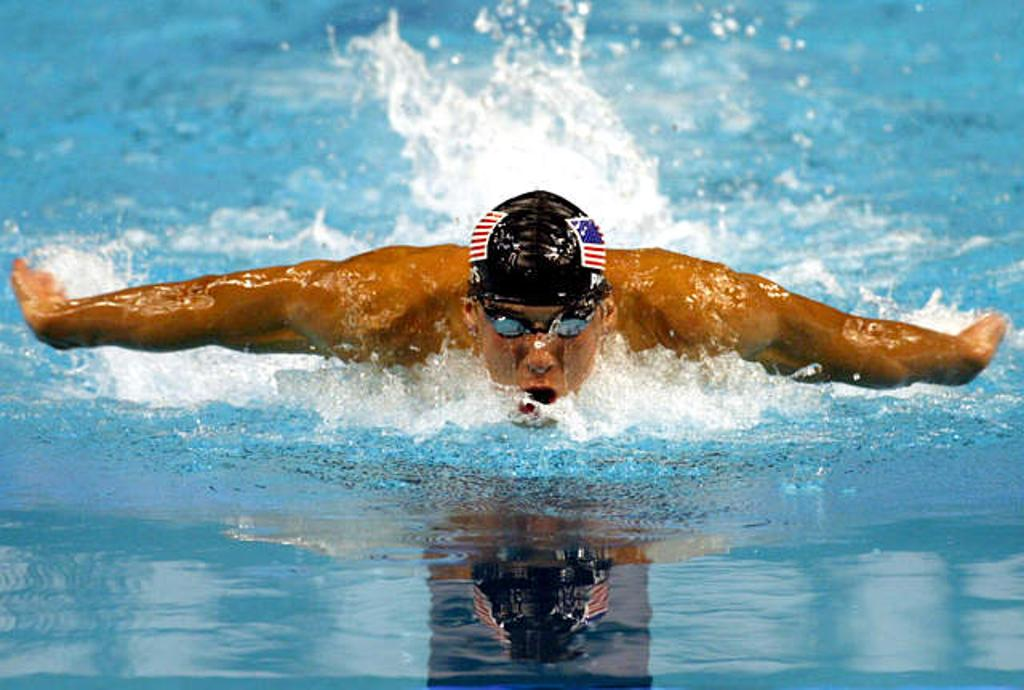face: (474, 276, 596, 416)
